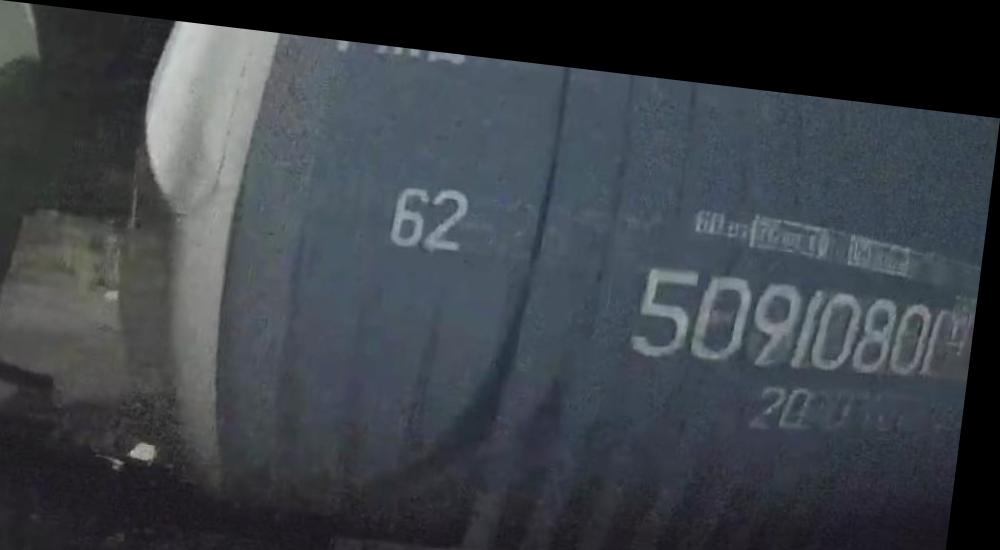Wagon-number: (632, 242, 959, 372)
